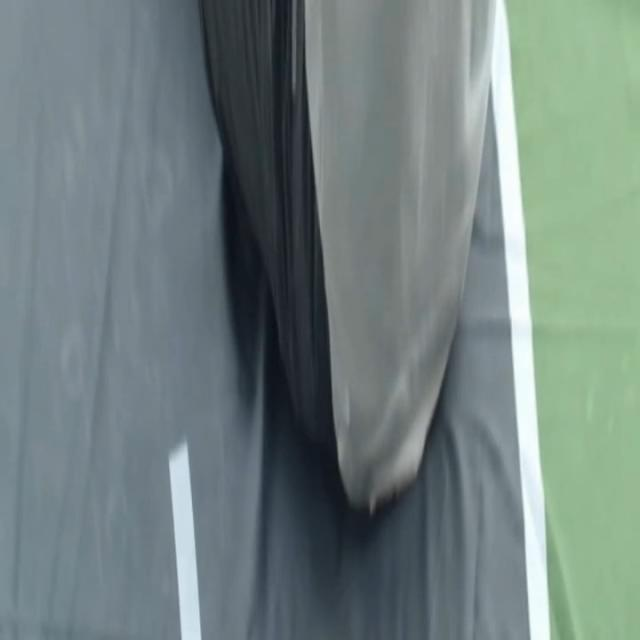center: (169, 442, 201, 639)
right: (492, 0, 549, 639)
